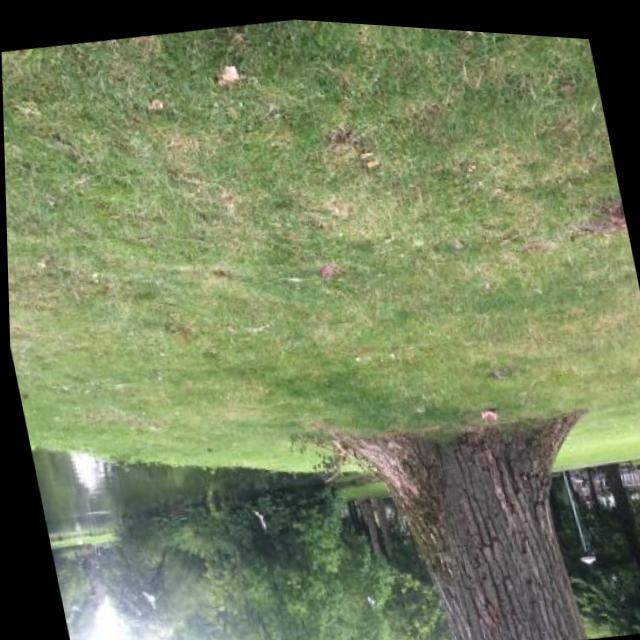metal: (480, 406, 498, 422)
